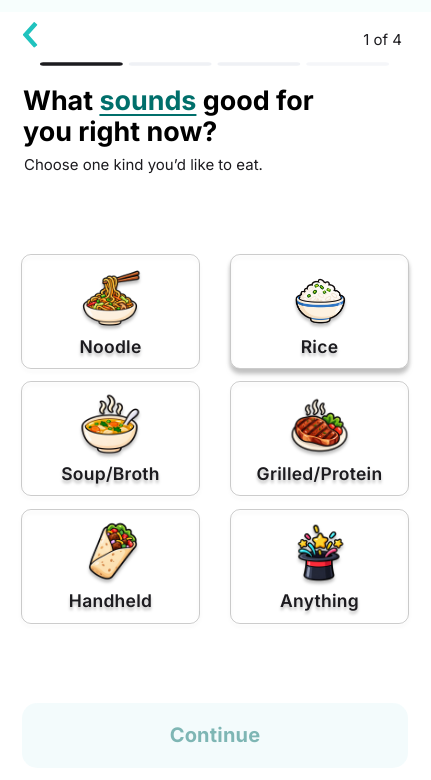
Test: mobile acceptance regressions › keeps Continue after the flexible options and keyboard accessible on /discover/food-type
The width and height of the screenshot is (431, 780).
Click the button "Noodle".
click(110, 311)  # box x1=21 y1=254 x2=200 y2=369
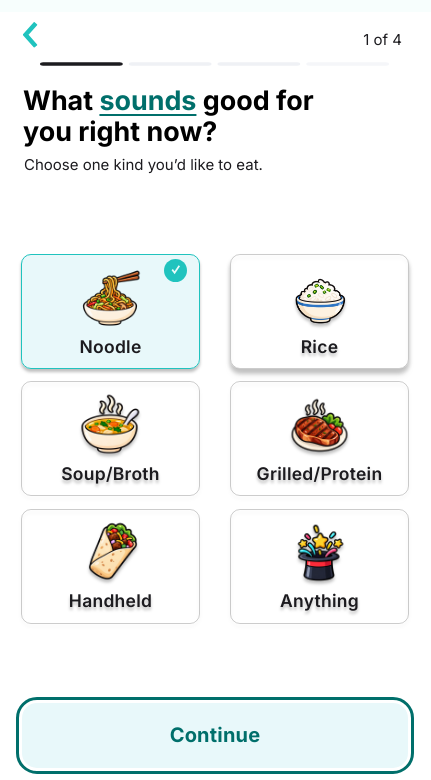
Now the button with class "discovery-cta" is enabled, box x1=22 y1=703 x2=408 y2=768
